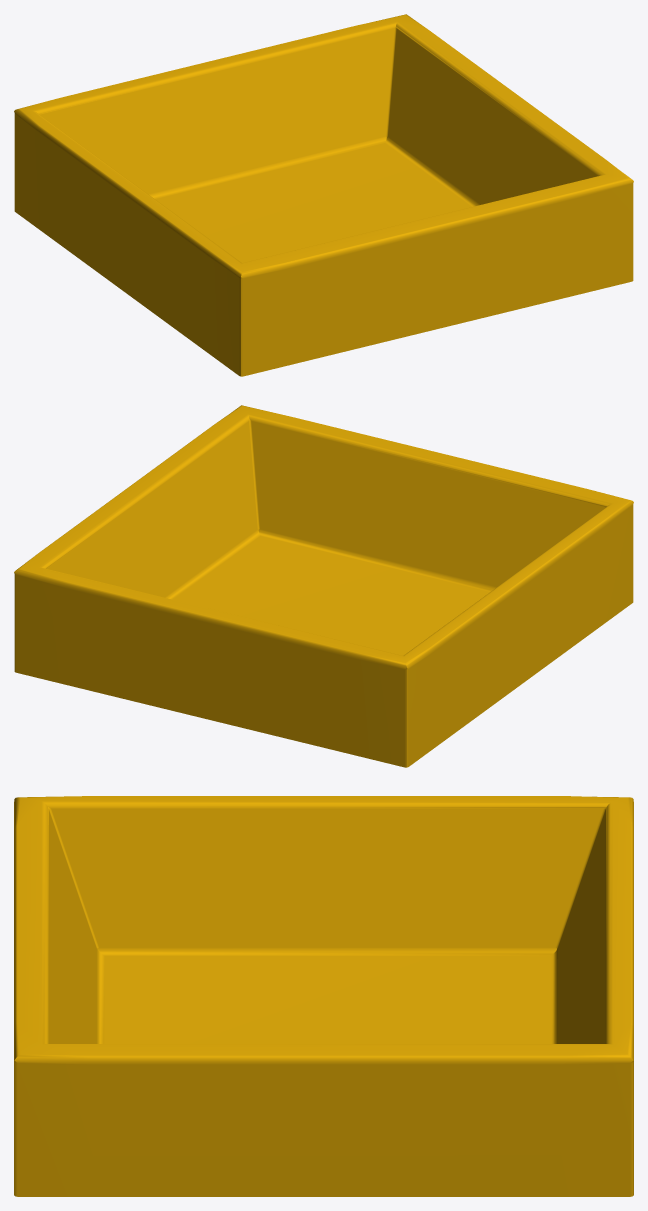
Rendered from PlateBase.fbx.
3 renders of one model, top to bottom at view 1: azimuth 30°, elevation 25°; view 2: azimuth 150°, elevation 25°; view 3: azimuth 270°, elevation 25°, orthographic. The views are drawn at different scales.
Parts seen in each view (by area): view 1: PlateBase; view 2: PlateBase; view 3: PlateBase.
Part boxes in pixels (x1,y1,x2,y2): PlateBase: (14, 14, 633, 376); PlateBase: (14, 405, 633, 767); PlateBase: (14, 796, 633, 1196).
Size of the model in its own units: 1 by 0.2519 by 1.
